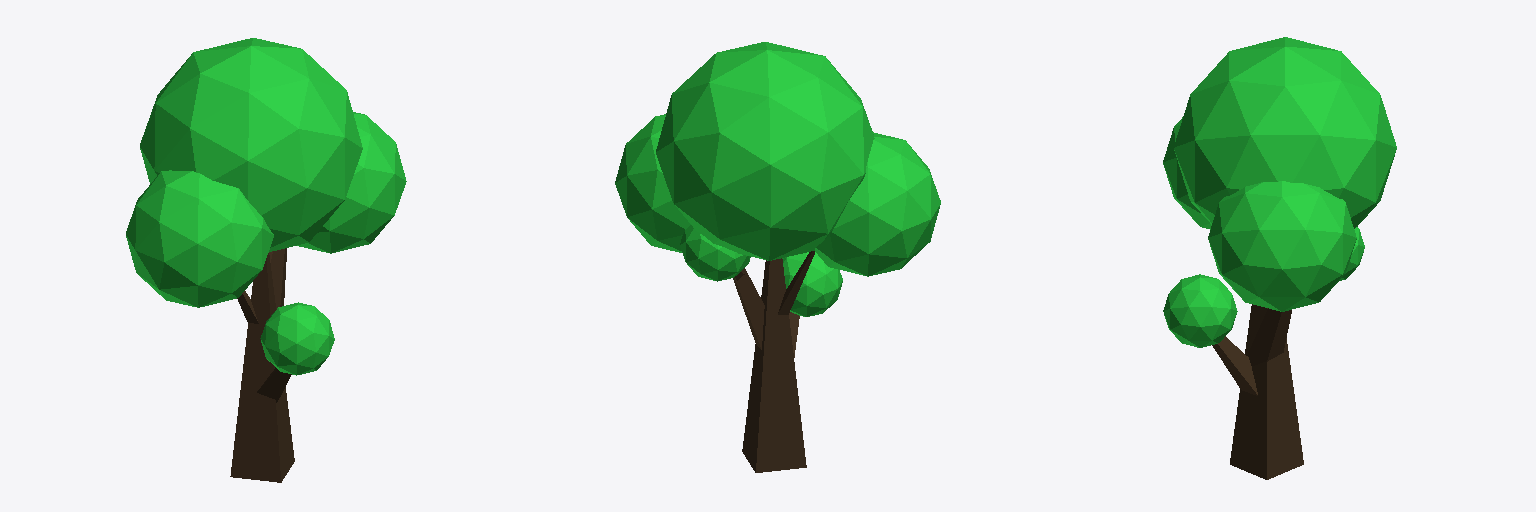
File: Tree 1.obj
3 renders of one model, left to right at view 1: azimuth 30°, elevation 25°; view 2: azimuth 150°, elevation 25°; view 3: azimuth 270°, elevation 25°, orthographic.
Visible parts, largest first — view 1: Tree 1; view 2: Tree 1; view 3: Tree 1.
Boxes of the visible parts, box(x1,y1,x2,y2) form: Tree 1: box(126, 38, 406, 482); Tree 1: box(615, 42, 940, 472); Tree 1: box(1163, 37, 1396, 479).
Size of the model in its own units: 0.8795 by 1.23 by 0.6289.